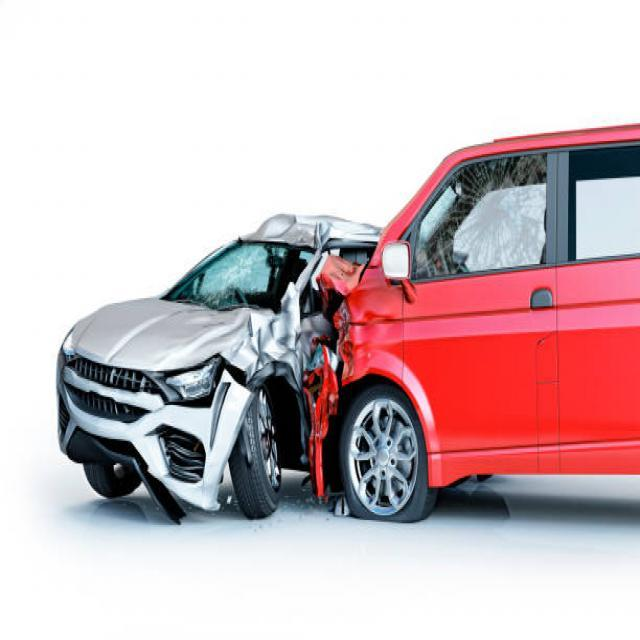accident: (86, 27, 640, 541)
